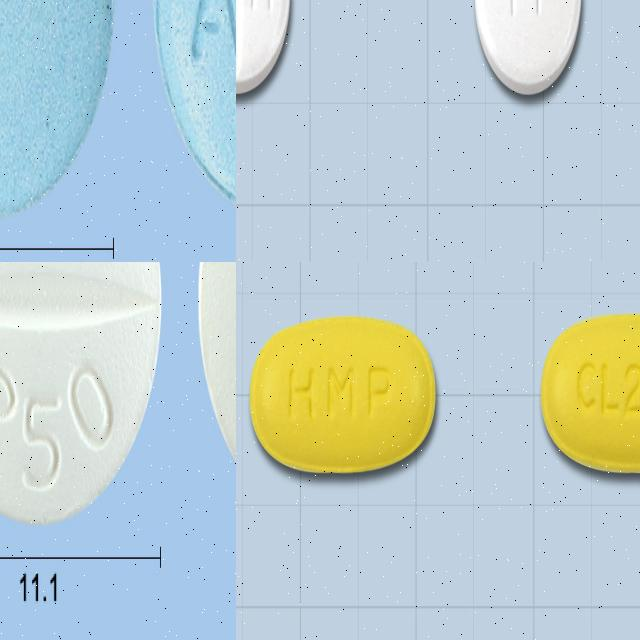Aclova 400mg: (0, 0, 118, 222), (154, 0, 236, 216)
Ciflo: (0, 262, 165, 530)
Clari - 500mg: (248, 314, 440, 477), (539, 309, 640, 478)
Curasil: (474, 0, 583, 97), (236, 0, 291, 96)
